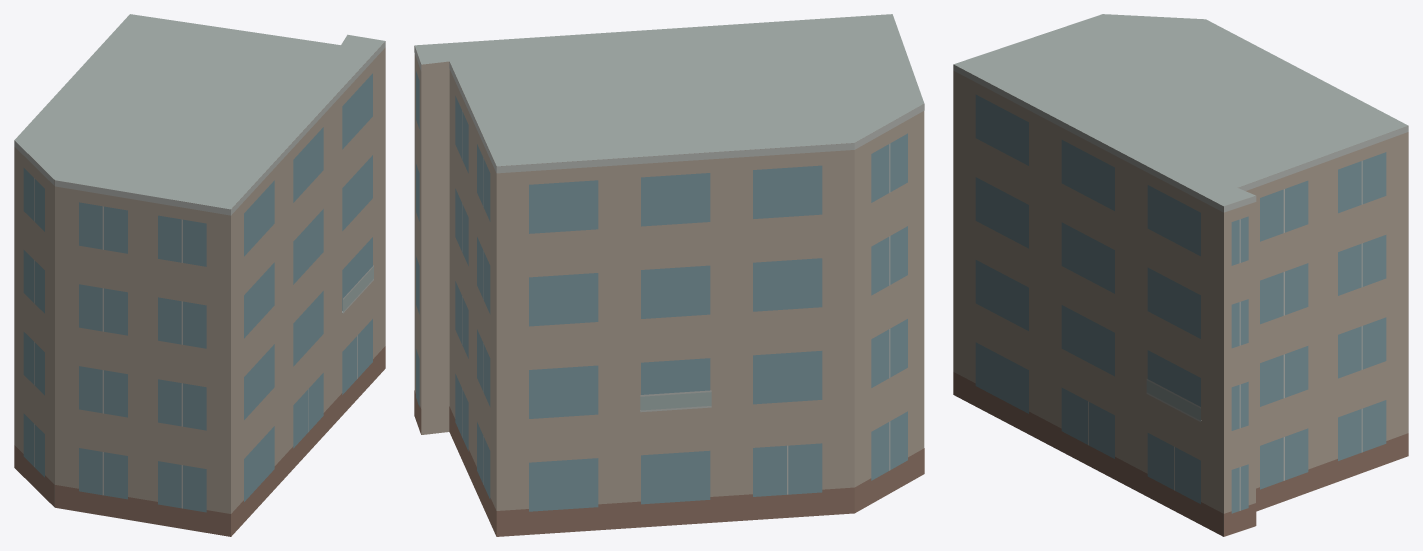
File: survey-upis-32777099.glb
3 renders of one model, left to right at view 1: azimuth 30°, elevation 25°; view 2: azimuth 150°, elevation 25°; view 3: azimuth 270°, elevation 25°, orthographic. The views are drawn at different scales.
Parts seen in each view (by area): view 1: survey-upis-32777099.tmp; view 2: survey-upis-32777099.tmp; view 3: survey-upis-32777099.tmp.
Boxes of the visible parts, bbox=[...] form: survey-upis-32777099.tmp: bbox=[14, 14, 385, 536]; survey-upis-32777099.tmp: bbox=[414, 14, 924, 536]; survey-upis-32777099.tmp: bbox=[953, 14, 1408, 536].
Size of the model in its own units: 16.12 by 12.9 by 16.11.
